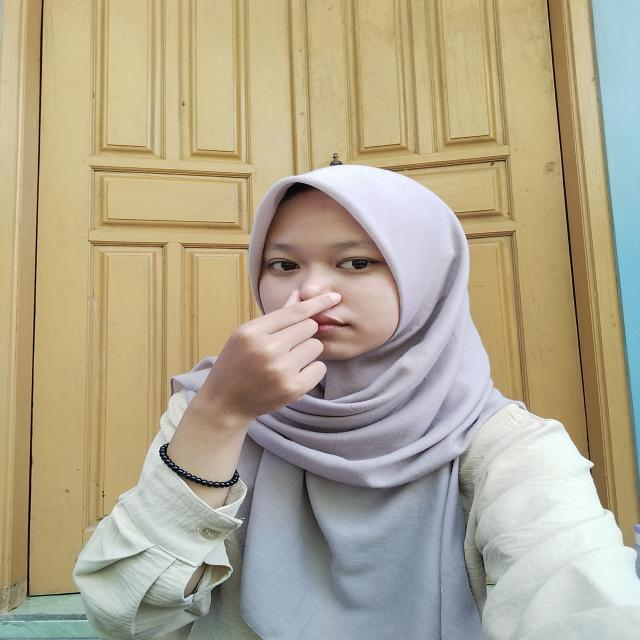bau: (181, 278, 358, 431)
